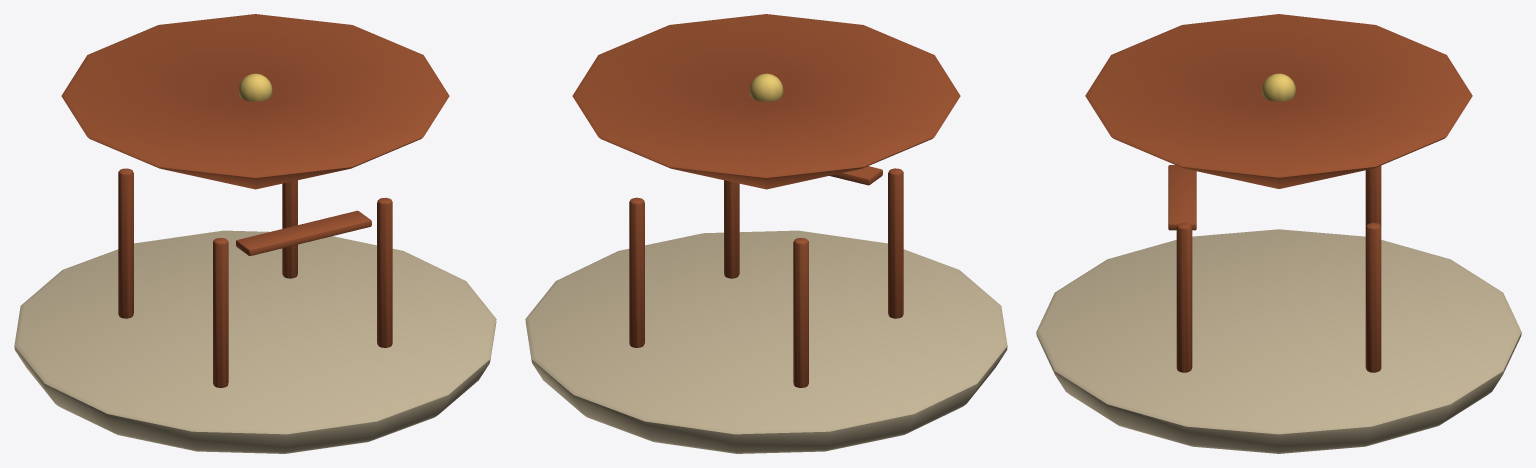
3 views of the same model, side by side, from view 1: azimuth 30°, elevation 25°; view 2: azimuth 150°, elevation 25°; view 3: azimuth 270°, elevation 25° (orthographic).
Parts seen in each view (by area): view 1: landmark_61786aa7; view 2: landmark_61786aa7; view 3: landmark_61786aa7.
Boxes of the visible parts, x1,y1,x2,y2 form: landmark_61786aa7: [14, 14, 496, 453]; landmark_61786aa7: [525, 14, 1007, 453]; landmark_61786aa7: [1036, 14, 1521, 453].
Size of the model in its own units: 5.13 by 3.33 by 5.13.
